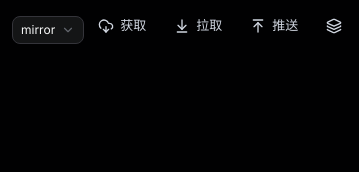
Test: SyncButtons multi-remote › opens the styled menu and selects another remote
Click the button with test id "sync-remote": (48,30) x1=12 y1=16 x2=84 y2=44
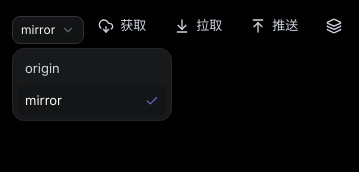
Click the option with test id "sync-remote-option-origin": (92,69) x1=17 y1=53 x2=167 y2=85
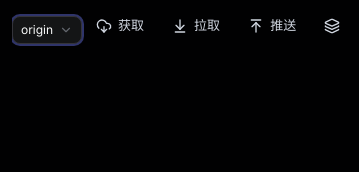
Now the button with test id "sync-remote" reads "origin", box x1=12 y1=16 x2=82 y2=44
Now the text "origin" is shown, box x1=21 y1=22 x2=53 y2=39
